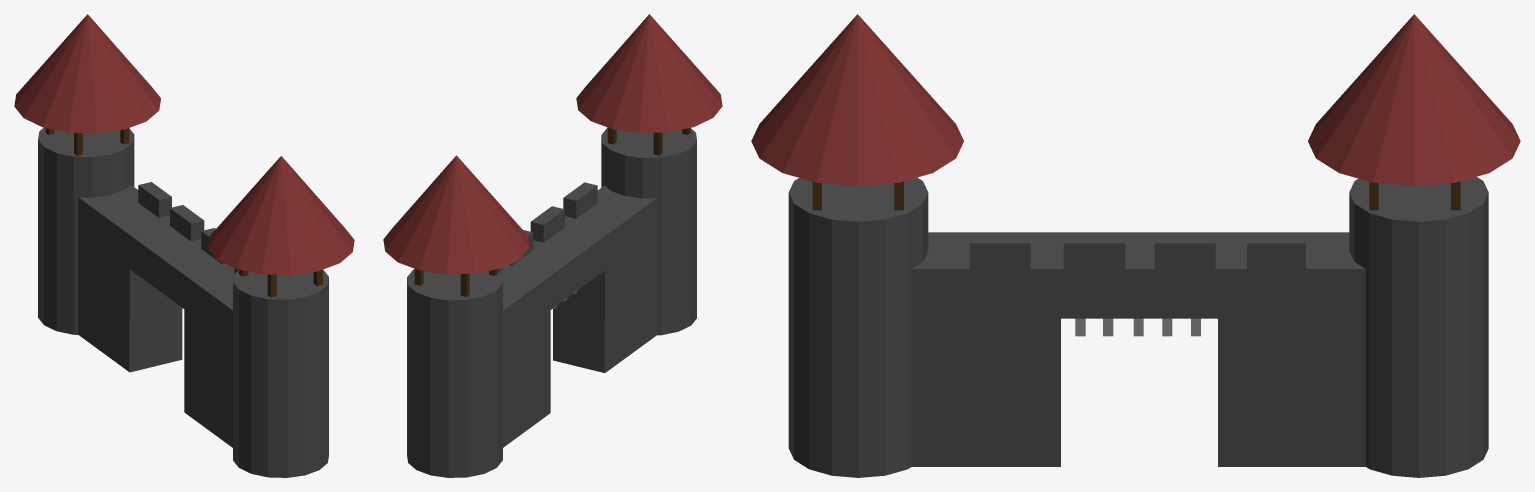
File: Tower_wall_enter.fbx
3 renders of one model, left to right at view 1: azimuth 30°, elevation 25°; view 2: azimuth 150°, elevation 25°; view 3: azimuth 270°, elevation 25°, orthographic. The views are drawn at different scales.
Parts seen in each view (by area): view 1: Cube, Cylinder, Cylinder.001, Cone.001, Cone; view 2: Cube, Cylinder.001, Cylinder, Cone.001, Cone; view 3: Cube, Cylinder, Cylinder.001, Cone, Cone.001.
Boxes of the visible parts, x1,y1,x2,y2 form: Cube: (78,182,238,447); Cylinder: (233,269,328,477); Cylinder.001: (38,127,134,334); Cone.001: (14,14,160,133); Cone: (208,156,354,275); Cube: (498,182,656,447); Cylinder.001: (407,269,502,477); Cylinder: (601,127,696,335); Cone.001: (383,155,529,274); Cone: (576,14,722,132); Cube: (911,232,1365,466); Cylinder: (788,177,928,477); Cylinder.001: (1349,177,1488,477); Cone: (751,14,963,186); Cone.001: (1308,14,1520,186).
Size of the model in its own units: 305 by 687 by 1103.
